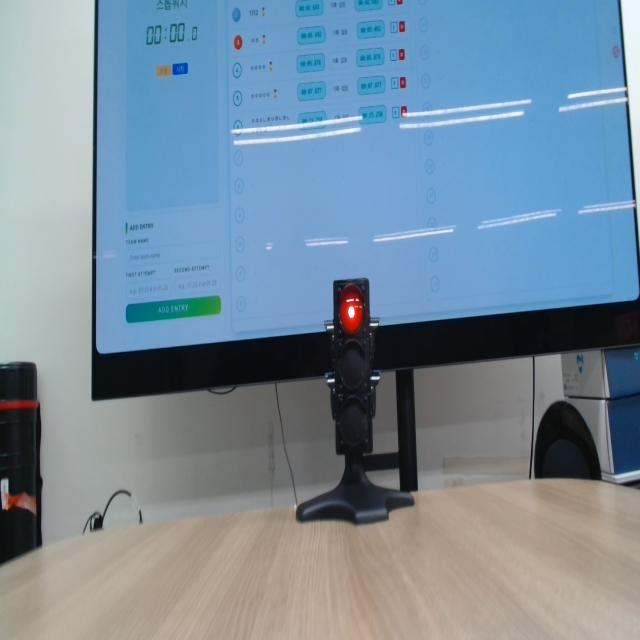red_light: (340, 286, 364, 334)
